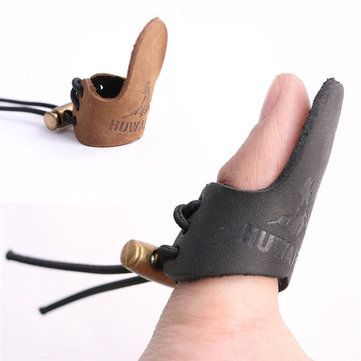cuero: (70, 16, 344, 290)
